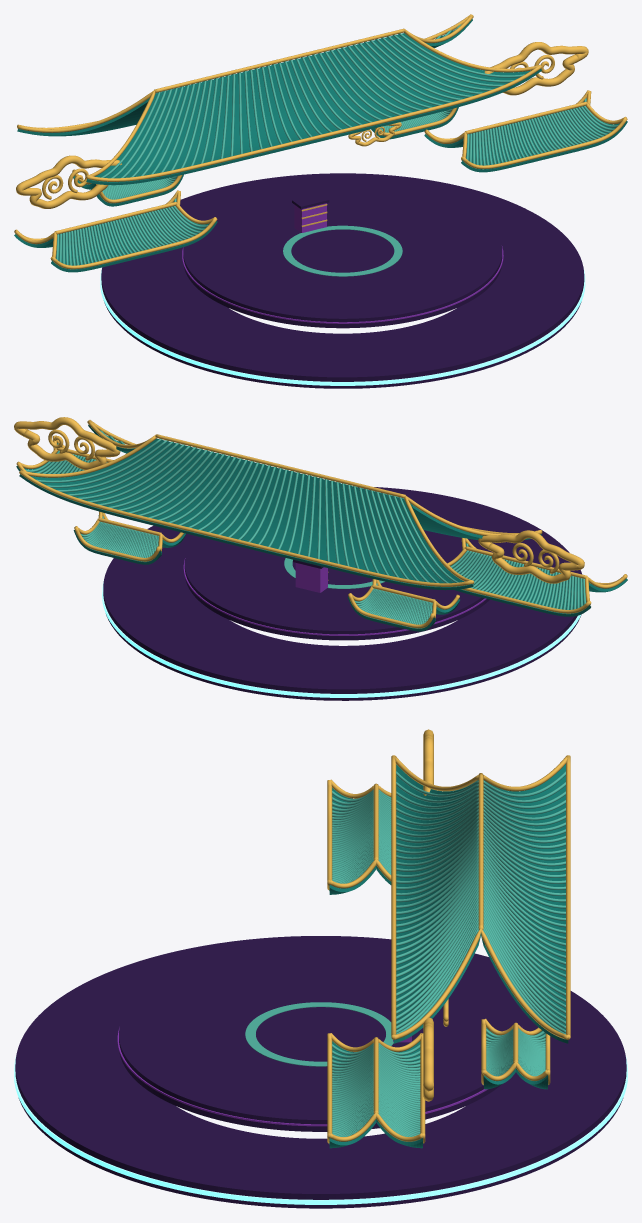
File: roof-paired-a055.glb
3 views of the same model, one above another, from view 1: azimuth 30°, elevation 25°; view 2: azimuth 150°, elevation 25°; view 3: azimuth 270°, elevation 25° (orthographic). The views are drawn at different scales.
Visible parts, largest first — view 1: STAGE_OUTER finite annulus hidden rear inferred, STAGE_INNER annulus, ROOF_MAIN closed shell, STAGE_INNER central disk, ROOF_LEFT closed shell, ROOF_RIGHT closed shell, STAGE_OUTER LED front full circumference inferred, ROOF_MAIN gold front eave, CLOUD_0 silhouette decorative proxy, CLOUD_1 silhouette decorative proxy, STAGE_INNER silver band, ROOF_MAIN gold ridge (+8 smaller); view 2: STAGE_OUTER finite annulus hidden rear inferred, ROOF_MAIN closed shell, STAGE_INNER annulus, STAGE_OUTER LED front full circumference inferred, ROOF_LEFT closed shell, CLOUD_0 silhouette decorative proxy, ROOF_MAIN gold back eave inferred, CLOUD_1 silhouette decorative proxy, ROOF_MAIN gold ridge, ROOF_MAIN swept gable, ROOF_MAIN swept gable.001, DJ11 body inferred depth (+9 smaller); view 3: STAGE_OUTER finite annulus hidden rear inferred, STAGE_INNER annulus, ROOF_MAIN closed shell, STAGE_INNER central disk, STAGE_OUTER LED front full circumference inferred, STAGE_INNER silver band, ROOF_MAIN gold front eave, ROOF_MAIN swept gable.001, ROOF_MAIN gold back eave inferred, ROOF_MAIN swept gable, ROOF_MAIN gold ridge, CLOUD_1 silhouette decorative proxy (+43 smaller).
Part boxes in pixels (<box>): STAGE_OUTER finite annulus hidden rear inferred: <box>101,173,584,388</box>; STAGE_INNER annulus: <box>183,184,502,328</box>; ROOF_MAIN closed shell: <box>17,19,541,185</box>; STAGE_INNER central disk: <box>291,229,394,272</box>; ROOF_LEFT closed shell: <box>14,202,217,272</box>; ROOF_RIGHT closed shell: <box>424,99,627,172</box>; STAGE_OUTER LED front full circumference inferred: <box>100,268,585,385</box>; ROOF_MAIN gold front eave: <box>86,65,541,181</box>; CLOUD_0 silhouette decorative proxy: <box>16,155,121,208</box>; CLOUD_1 silhouette decorative proxy: <box>484,42,588,95</box>; STAGE_INNER silver band: <box>283,225,402,276</box>; ROOF_MAIN gold ridge: <box>154,28,405,92</box>; STAGE_OUTER finite annulus hidden rear inferred: <box>103,487,582,700</box>; ROOF_MAIN closed shell: <box>19,424,541,590</box>; STAGE_INNER annulus: <box>184,505,495,640</box>; STAGE_OUTER LED front full circumference inferred: <box>102,580,580,697</box>; ROOF_LEFT closed shell: <box>450,543,627,616</box>; CLOUD_0 silhouette decorative proxy: <box>478,530,584,583</box>; ROOF_MAIN gold back eave inferred: <box>19,470,473,586</box>; CLOUD_1 silhouette decorative proxy: <box>14,417,120,469</box>; ROOF_MAIN gold ridge: <box>155,434,405,498</box>; ROOF_MAIN swept gable: <box>404,495,541,584</box>; ROOF_MAIN swept gable.001: <box>22,420,156,477</box>; DJ11 body inferred depth: <box>295,563,327,592</box>; STAGE_OUTER finite annulus hidden rear inferred: <box>15,936,626,1208</box>; STAGE_INNER annulus: <box>119,949,522,1131</box>; ROOF_MAIN closed shell: <box>393,764,568,1043</box>; STAGE_INNER central disk: <box>256,1007,385,1061</box>; STAGE_OUTER LED front full circumference inferred: <box>14,1056,627,1204</box>; STAGE_INNER silver band: <box>245,1002,393,1066</box>; ROOF_MAIN gold front eave: <box>391,755,396,1039</box>; ROOF_MAIN swept gable.001: <box>392,928,568,1039</box>; ROOF_MAIN gold back eave inferred: <box>566,755,570,1039</box>; ROOF_MAIN swept gable: <box>394,756,567,791</box>; ROOF_MAIN gold ridge: <box>478,773,483,929</box>; CLOUD_1 silhouette decorative proxy: <box>423,1017,433,1101</box>.
Bounding box in the file's own units: 28.98 × 8.7 × 21.1.
